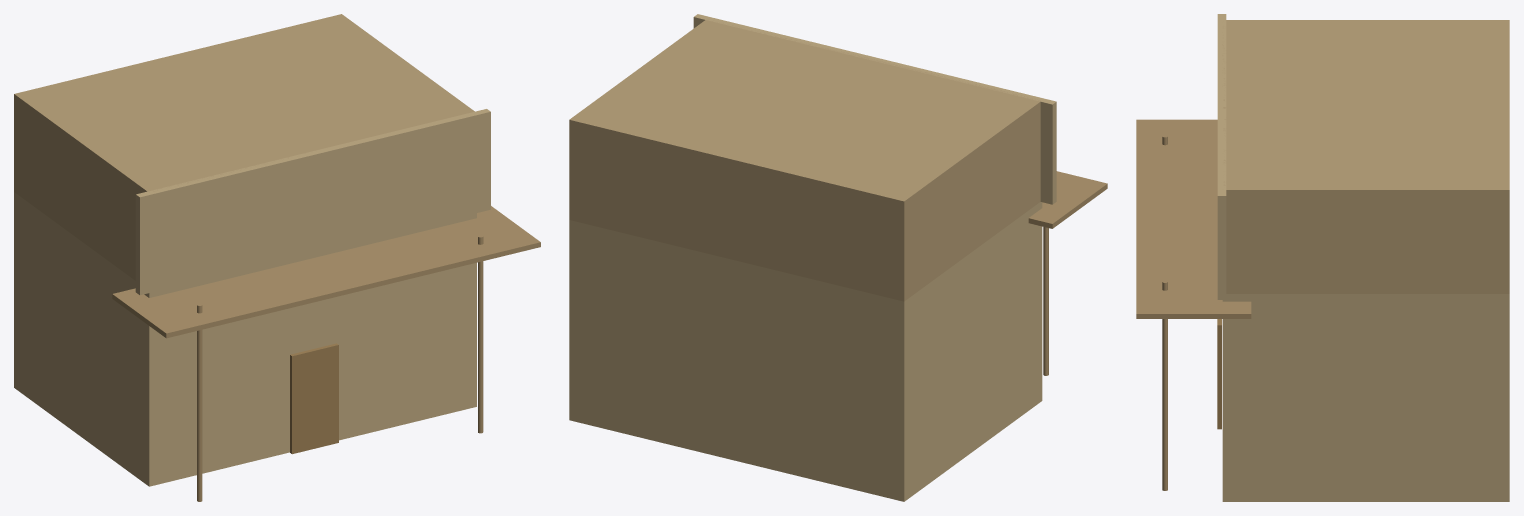
The model's file is env-ww-saloon.glb.
3 views of the same model, side by side, from view 1: azimuth 30°, elevation 25°; view 2: azimuth 150°, elevation 25°; view 3: azimuth 270°, elevation 25° (orthographic). The views are drawn at different scales.
Size of the model in its own units: 8 by 6 by 6.5.
